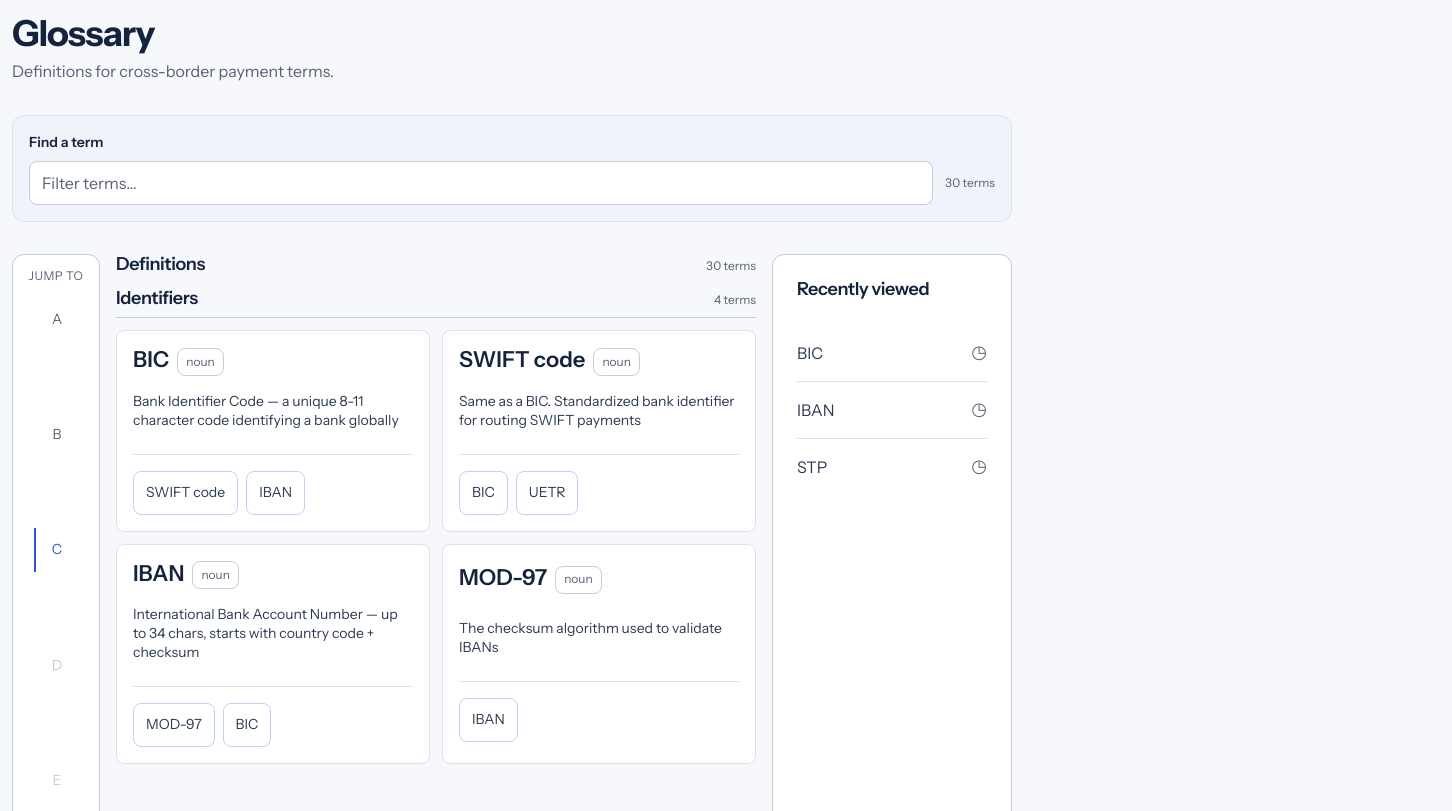
it: GlossaryPage › shows the filtered result count and a no-results state
In the search field named "Filter glossary terms": (481, 183) top-left (29, 161), bottom-right (933, 205), type "MOD-97"
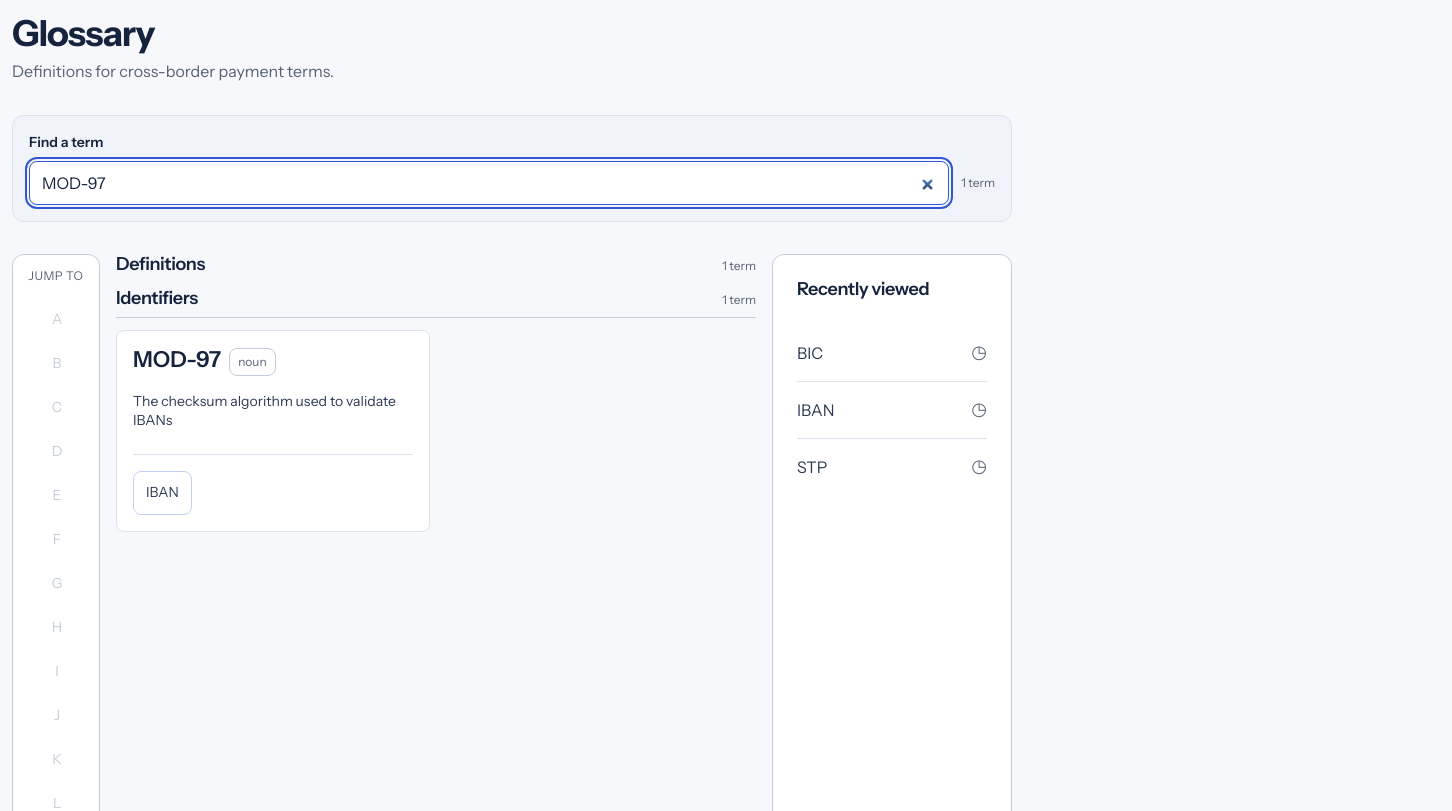
expect the text "MOD-97" is shown: met, box top-left (133, 346), bottom-right (221, 373)
expect the 1st text "1 term" is shown: met, box top-left (961, 174), bottom-right (995, 192)
Clear the search field named "Filter glossary terms": (489, 183) top-left (29, 161), bottom-right (949, 205)
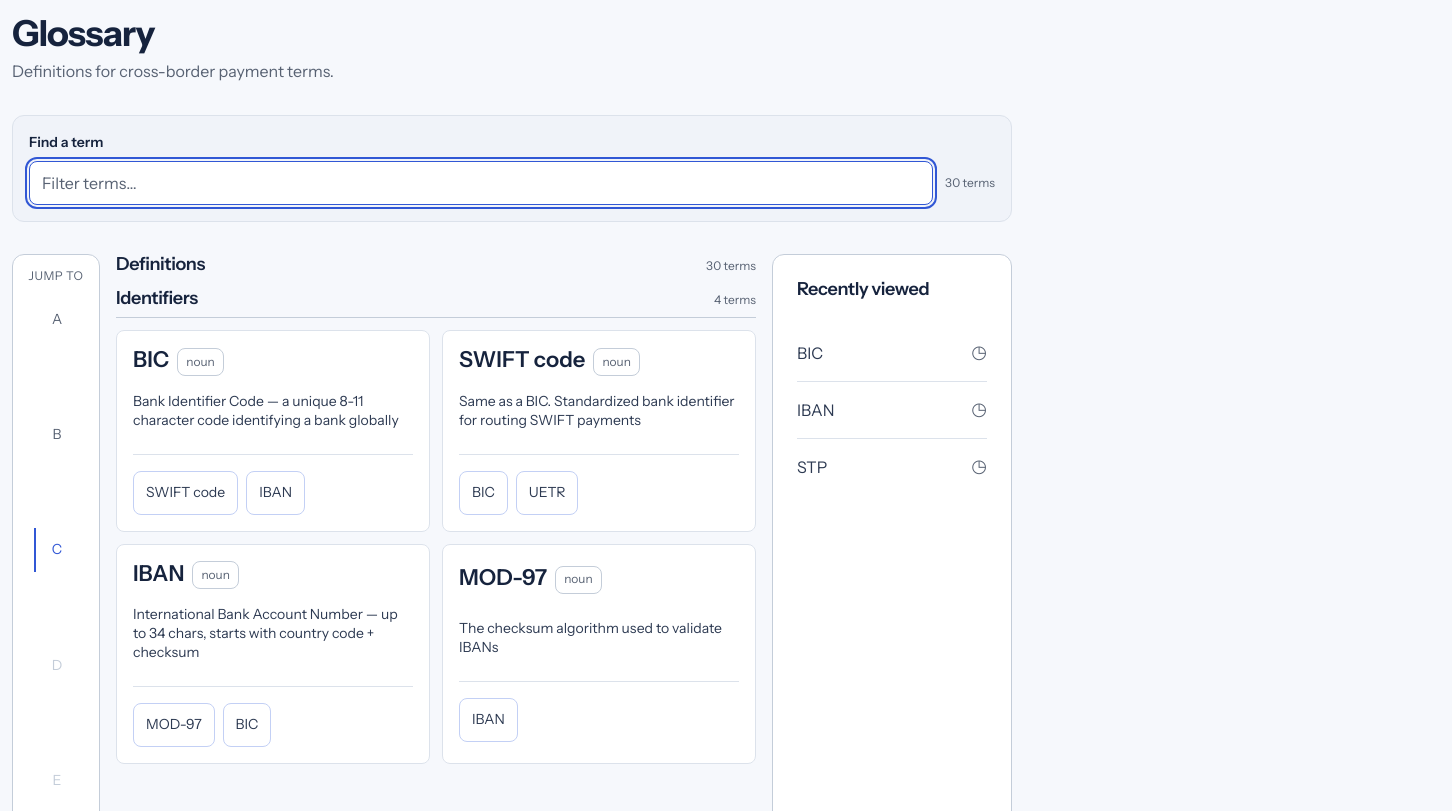
In the search field named "Filter glossary terms": (481, 183) top-left (29, 161), bottom-right (933, 205), type "does-not-exist"
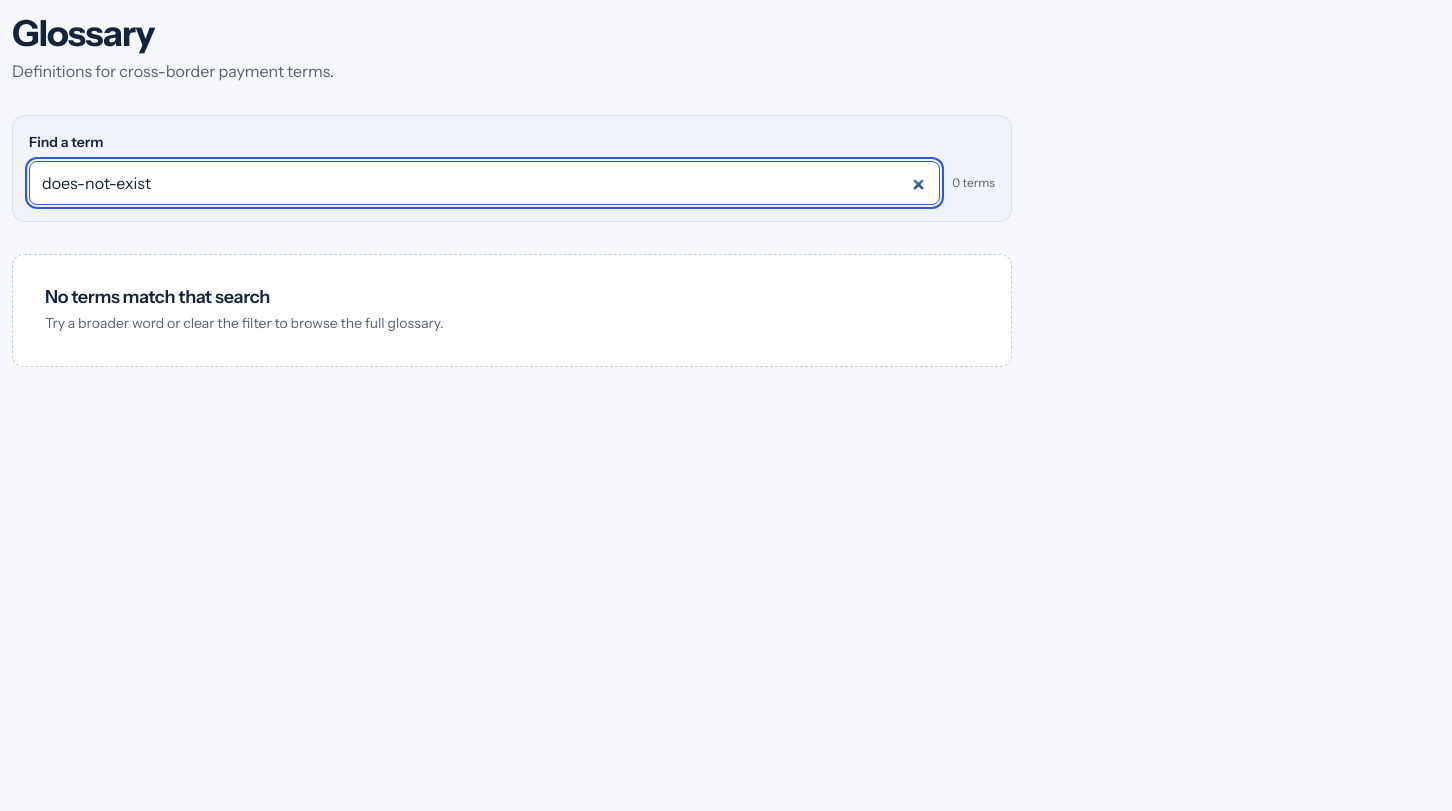
expect the heading "No terms match that search" is shown: met, box top-left (45, 286), bottom-right (270, 308)
